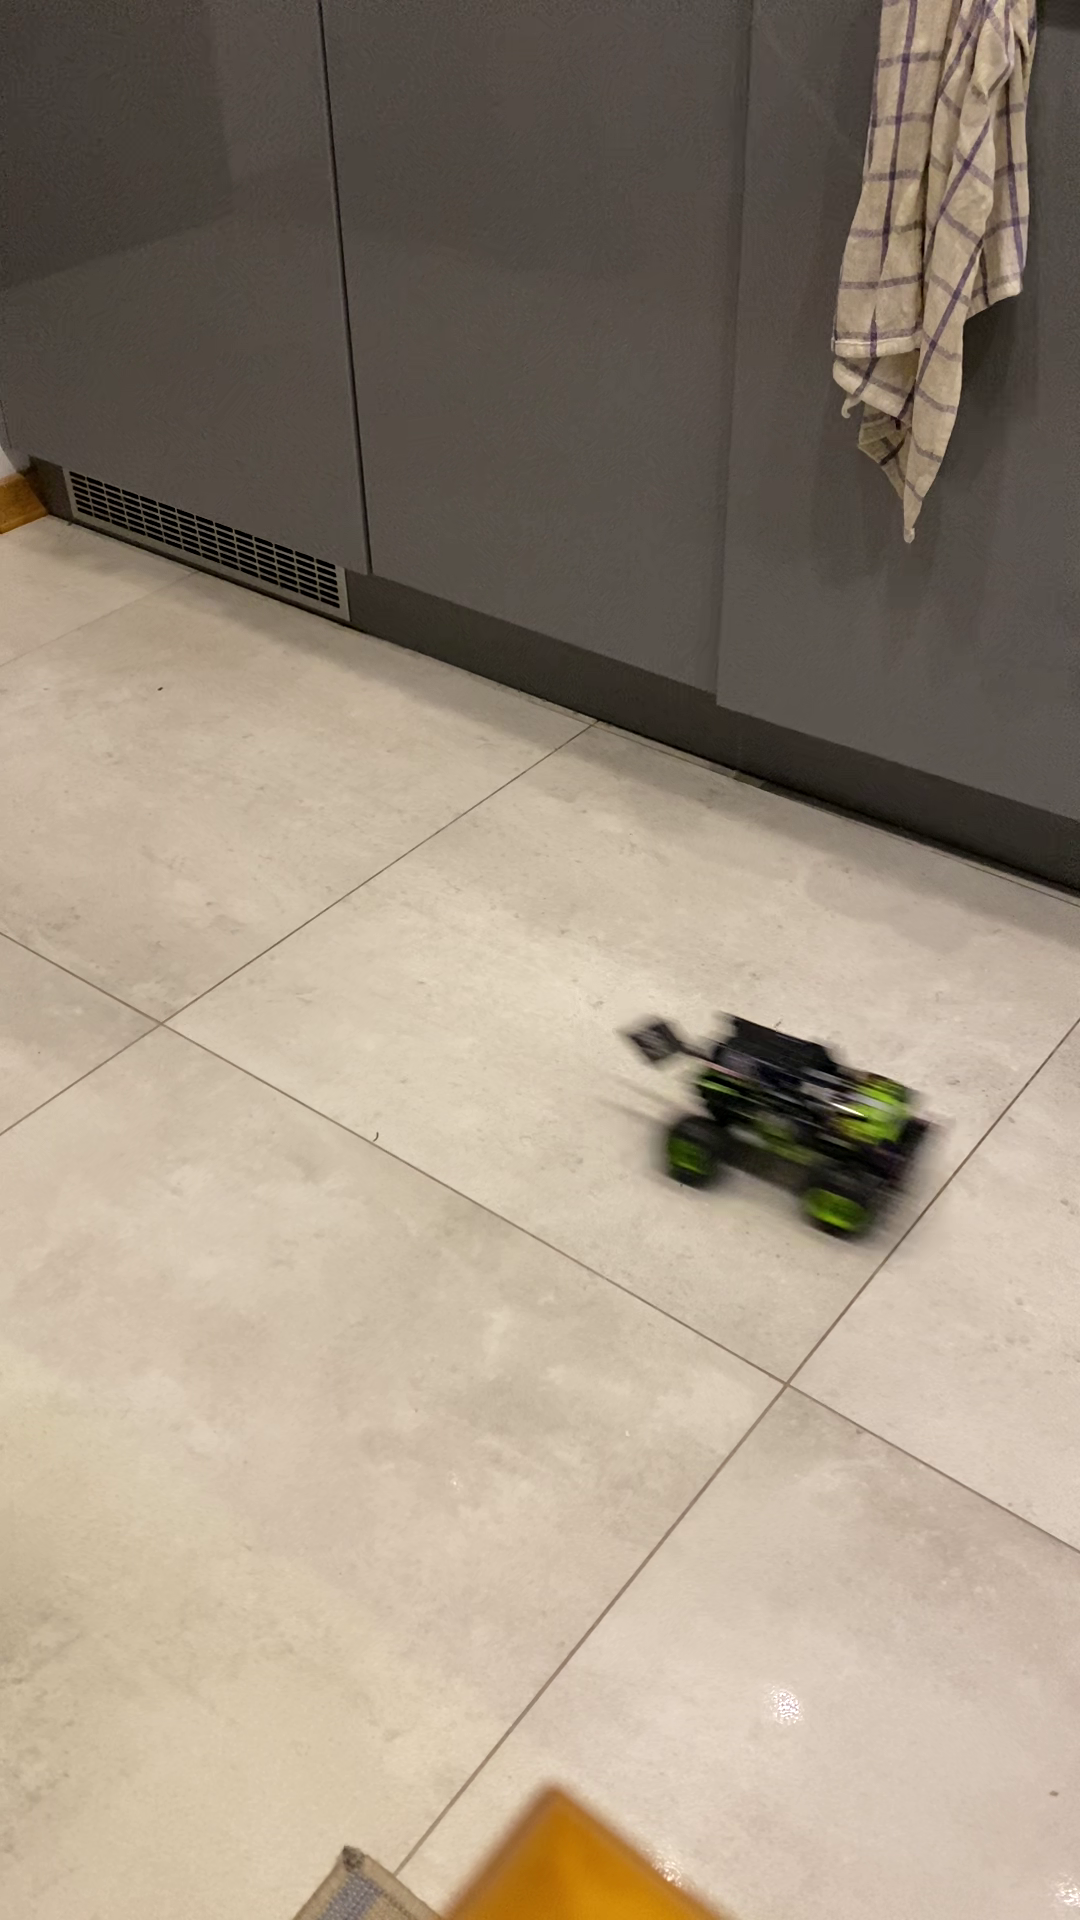car: (665, 1014, 934, 1244)
